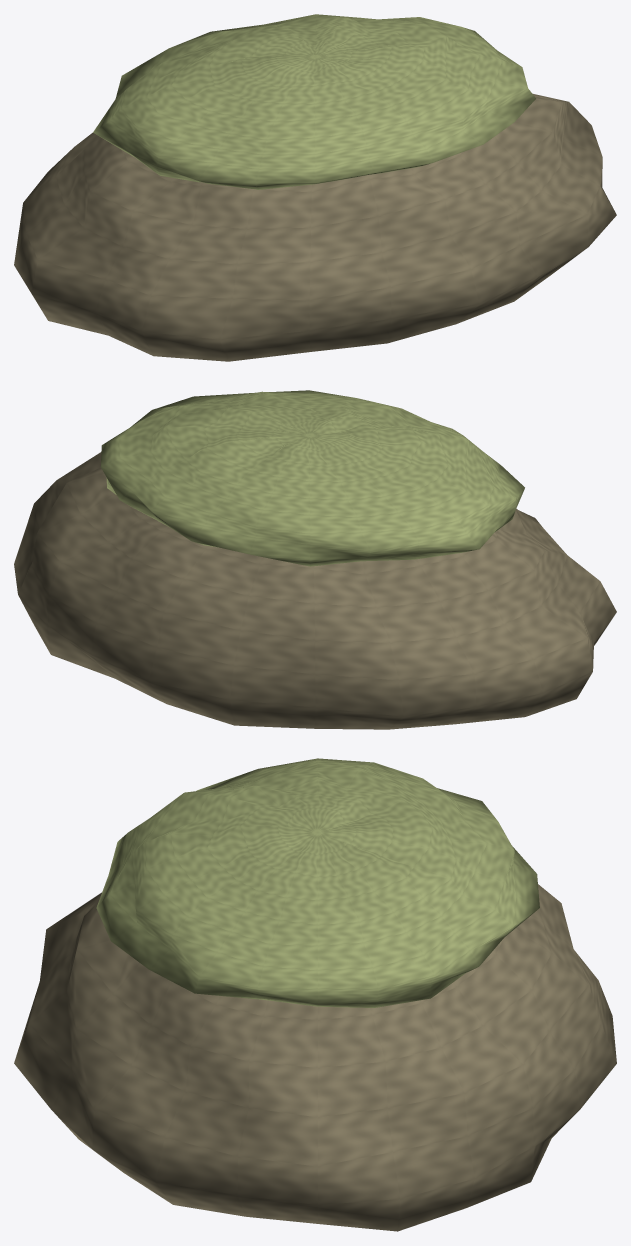
The model's file is peat_hummock_swamp_and_mangrove_22638.glb.
3 renders of one model, top to bottom at view 1: azimuth 30°, elevation 25°; view 2: azimuth 150°, elevation 25°; view 3: azimuth 270°, elevation 25°, orthographic. The views are drawn at different scales.
Visible parts, largest first — view 1: peat-hummock; view 2: peat-hummock; view 3: peat-hummock.
Part boxes in pixels (x1,y1,x2,y2): peat-hummock: (14, 14, 616, 361); peat-hummock: (14, 390, 616, 729); peat-hummock: (14, 758, 616, 1231).
Size of the model in its own units: 1.99 by 0.6879 by 1.51.
2 materials, 2 textured.
